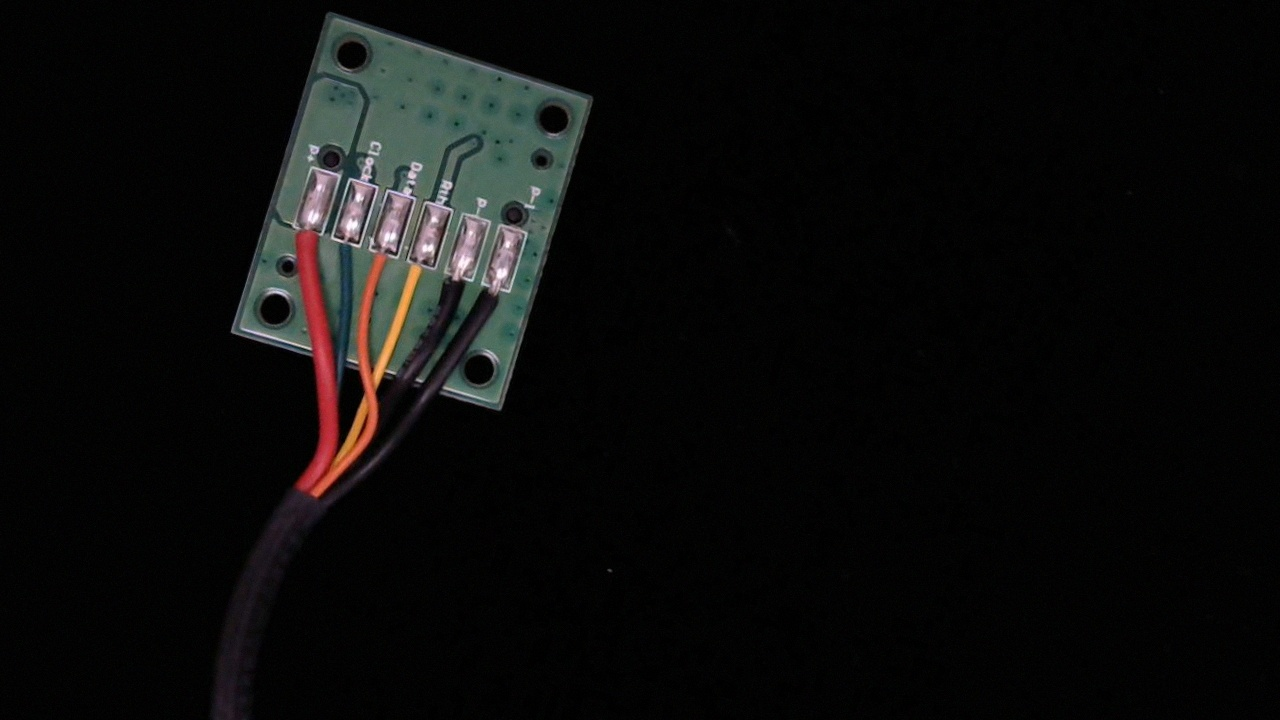Black: (425, 254, 479, 334)
Black1: (467, 265, 519, 339)
Green: (318, 215, 369, 284)
Orange: (353, 228, 405, 306)
Red: (278, 207, 332, 284)
Yellow: (391, 242, 445, 323)
